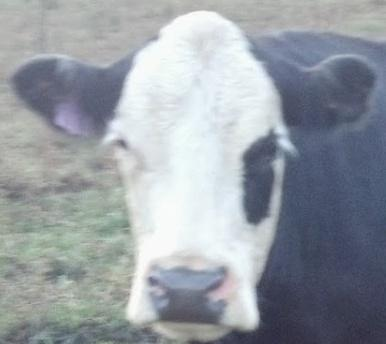muzzles: (126, 258, 254, 338)
